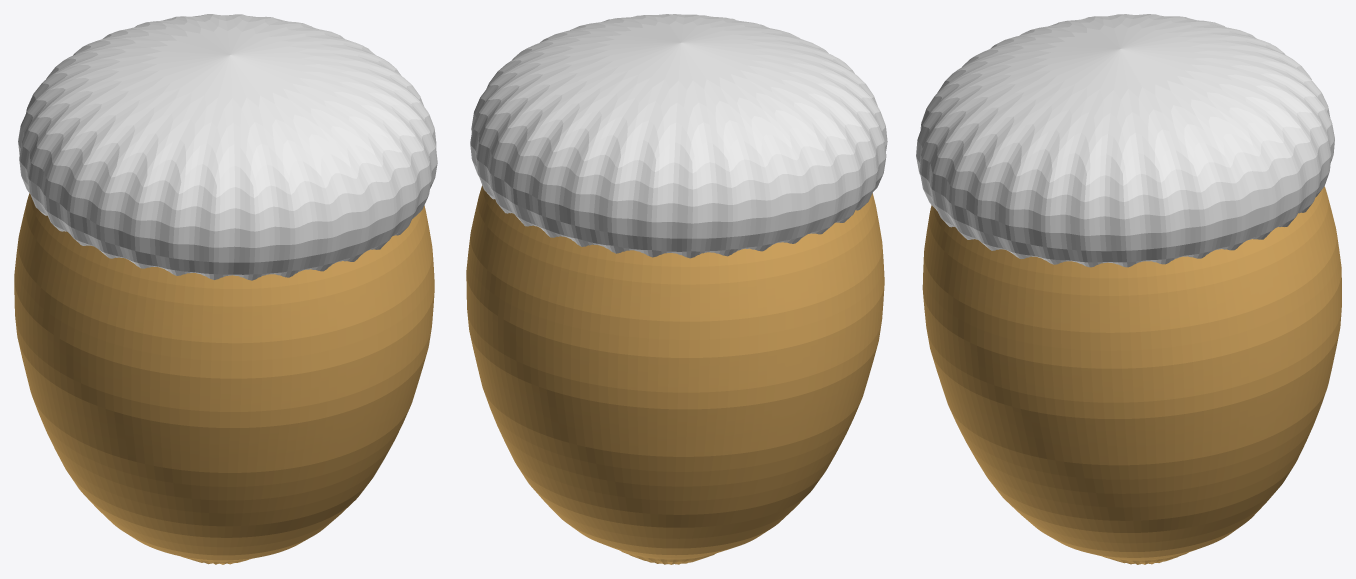
File: Chestnut.fbx
3 renders of one model, left to right at view 1: azimuth 30°, elevation 25°; view 2: azimuth 150°, elevation 25°; view 3: azimuth 270°, elevation 25°, orthographic.
Parts seen in each view (by area): view 1: nut, top; view 2: nut, top; view 3: nut, top.
Boxes of the visible parts, x1=… form: nut: x1=14, y1=193, x2=434, y2=564; top: x1=18, y1=14, x2=437, y2=280; nut: x1=466, y1=185, x2=884, y2=564; top: x1=470, y1=14, x2=887, y2=258; nut: x1=922, y1=186, x2=1341, y2=564; top: x1=916, y1=14, x2=1334, y2=267.
Bounding box in the file's own units: 0.1134 × 0.1152 × 0.1506.
